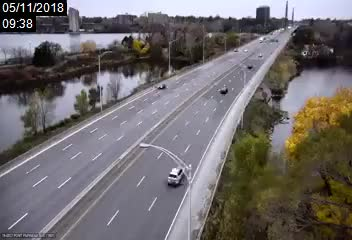personal_car: (167, 167, 185, 187), (219, 85, 228, 94), (156, 82, 166, 89)
